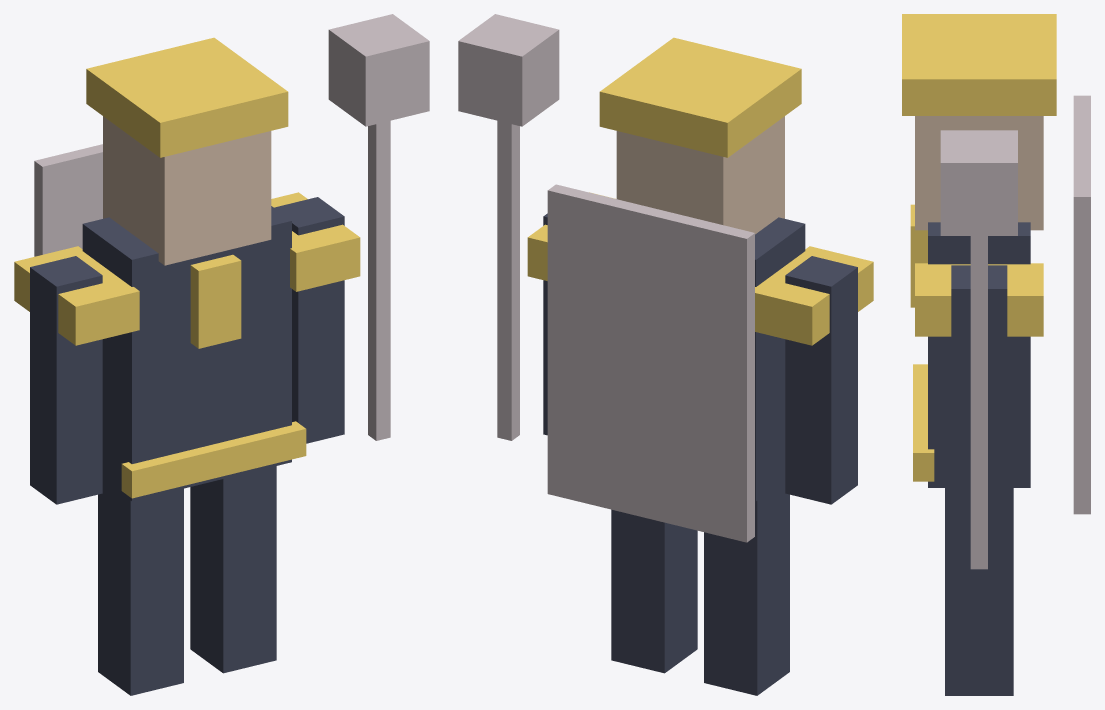
Rendered from 15_vela_nullborne_navigator_near_spire.glb.
The picture shows the model from 3 angles, left to right: view 1: azimuth 30°, elevation 25°; view 2: azimuth 150°, elevation 25°; view 3: azimuth 270°, elevation 25°; orthographic projection. The views are drawn at different scales.
Parts seen in each view (by area): view 1: Vela Nullborne, Navigator near Spire; view 2: Vela Nullborne, Navigator near Spire; view 3: Vela Nullborne, Navigator near Spire.
Part boxes in pixels (x1=…): Vela Nullborne, Navigator near Spire: x1=14, y1=14, x2=429, y2=695; Vela Nullborne, Navigator near Spire: x1=458, y1=14, x2=873, y2=695; Vela Nullborne, Navigator near Spire: x1=902, y1=14, x2=1090, y2=695.
Size of the model in its own units: 1.12 by 1.7 by 0.476.
